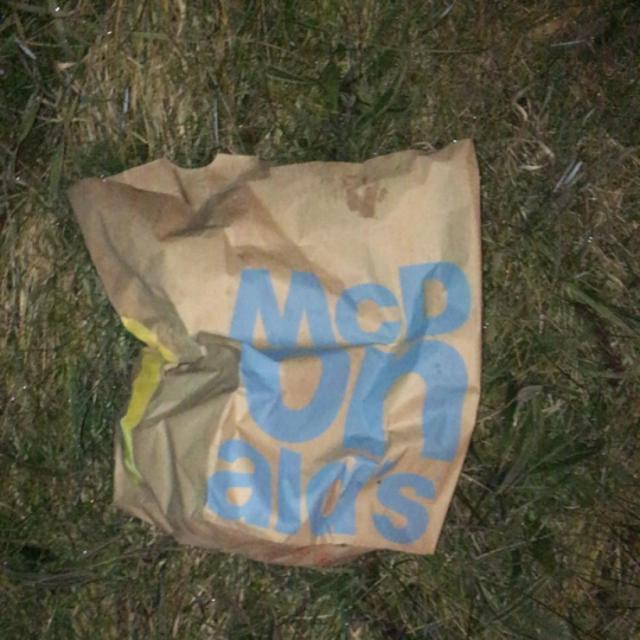Paper: (62, 134, 486, 574)
